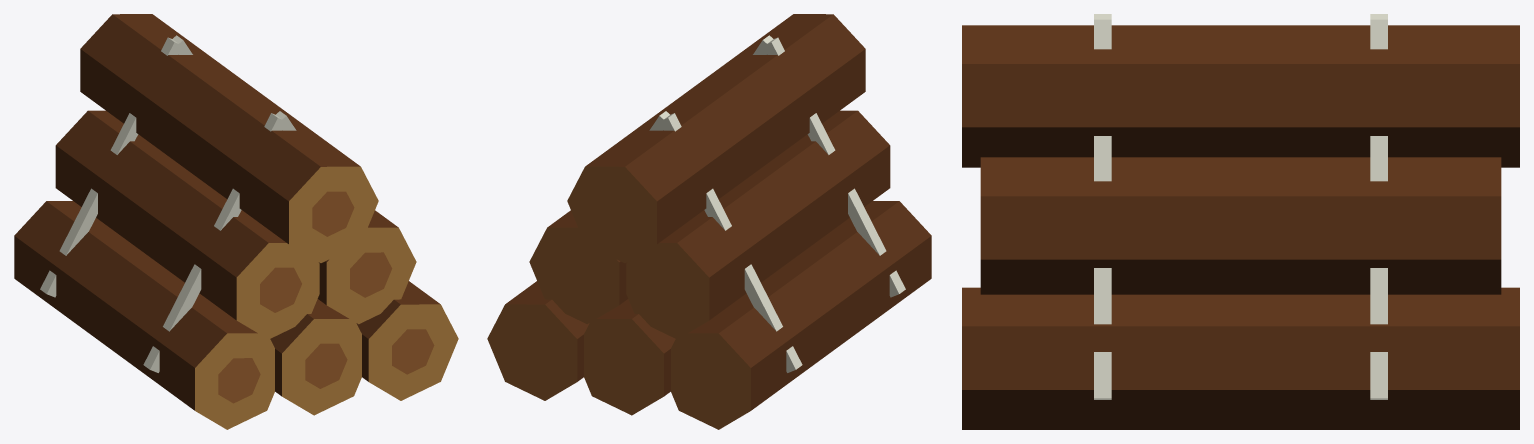
The model's file is logpile.fbx.
3 renders of one model, left to right at view 1: azimuth 30°, elevation 25°; view 2: azimuth 150°, elevation 25°; view 3: azimuth 270°, elevation 25°, orthographic. The views are drawn at different scales.
Parts seen in each view (by area): view 1: logpile; view 2: logpile; view 3: logpile.
Part boxes in pixels (x1,y1,x2,y2): logpile: (14,14,458,429); logpile: (487,14,931,429); logpile: (962,14,1519,429).
Size of the model in its own units: 0.8274 by 0.7926 by 1.13.
